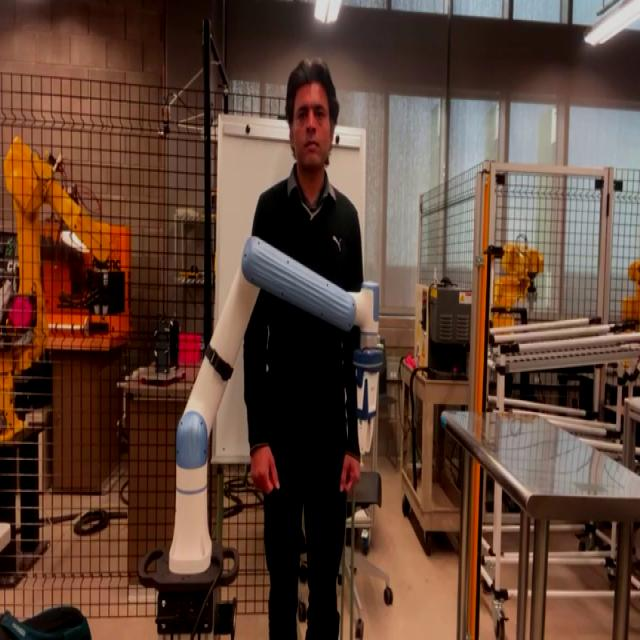robot: (163, 226, 394, 594)
